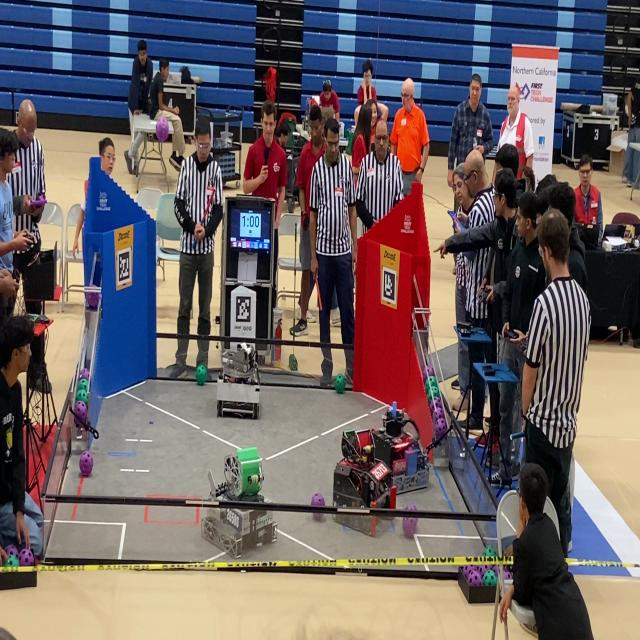artifact_green: (483, 570, 497, 586), (196, 365, 207, 385), (428, 377, 439, 397), (335, 374, 345, 393), (5, 544, 19, 557), (4, 555, 19, 567), (76, 389, 88, 404), (483, 546, 496, 557), (425, 383, 432, 403), (77, 379, 88, 391), (79, 368, 90, 380), (478, 565, 491, 575), (289, 354, 297, 370), (428, 376, 438, 388), (430, 386, 440, 398), (428, 376, 437, 387), (424, 380, 431, 394), (504, 570, 512, 580), (505, 565, 513, 573)
artifact_purple: (79, 451, 94, 477), (74, 401, 87, 427), (156, 118, 169, 142), (18, 548, 34, 566), (430, 398, 443, 420), (86, 289, 100, 309), (403, 518, 417, 538), (467, 569, 482, 586), (435, 418, 447, 439), (311, 493, 325, 506), (433, 408, 445, 422), (5, 545, 18, 557), (462, 565, 474, 578), (433, 397, 443, 412), (79, 368, 90, 381), (430, 398, 437, 416), (479, 565, 491, 575), (426, 365, 435, 377), (422, 367, 428, 383), (504, 570, 512, 580), (505, 565, 513, 574), (491, 565, 498, 575), (150, 421, 153, 424)
